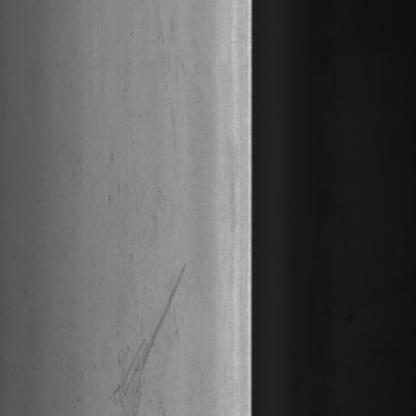water_spot: (101, 254, 188, 414)
